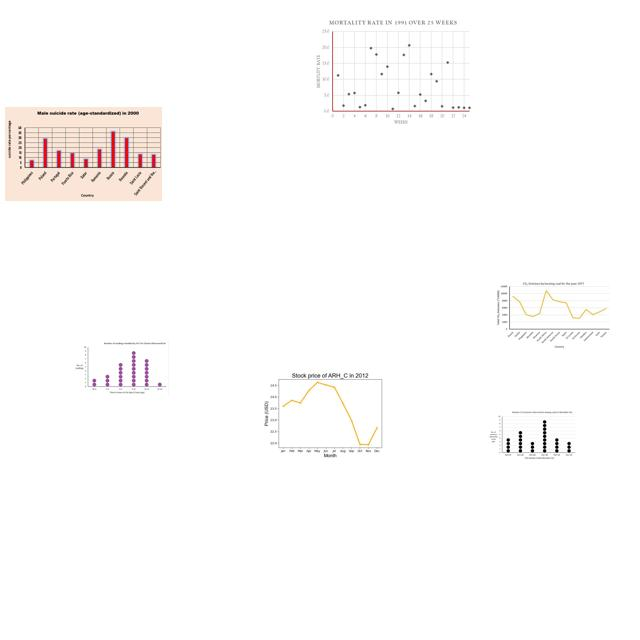Graph: (315, 18, 474, 126), (5, 107, 162, 201), (262, 363, 395, 463), (496, 281, 611, 349), (73, 340, 169, 396), (488, 410, 576, 461)
